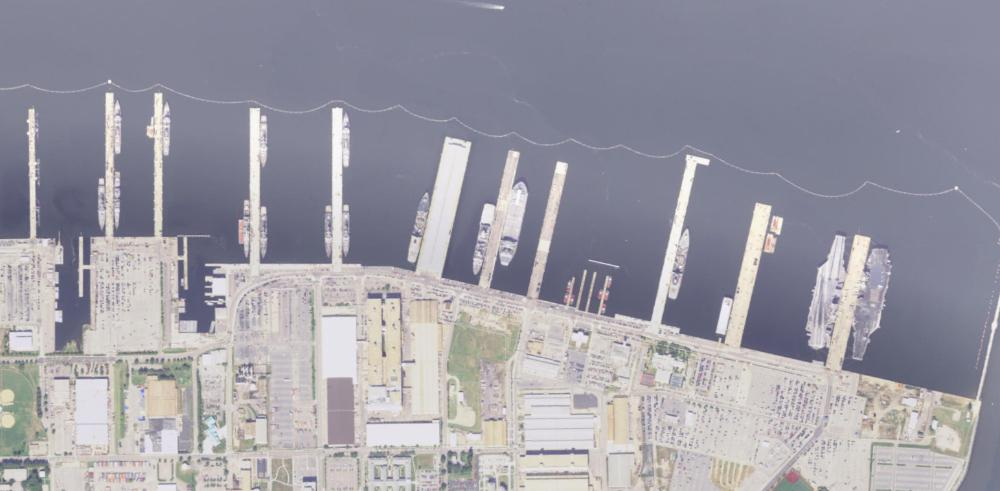destroyer: (109, 96, 125, 158), (159, 99, 173, 157), (258, 206, 272, 260), (257, 115, 269, 169), (97, 178, 107, 230)
fregate: (667, 227, 692, 305), (474, 203, 494, 278), (340, 201, 359, 258), (323, 204, 336, 263), (340, 111, 351, 168)
supply: (502, 173, 531, 273)
